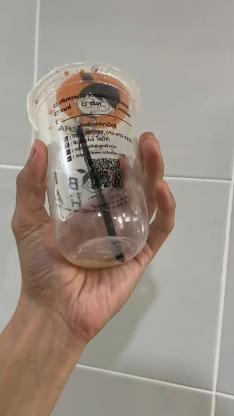Plastic Cup: (25, 60, 155, 266)
